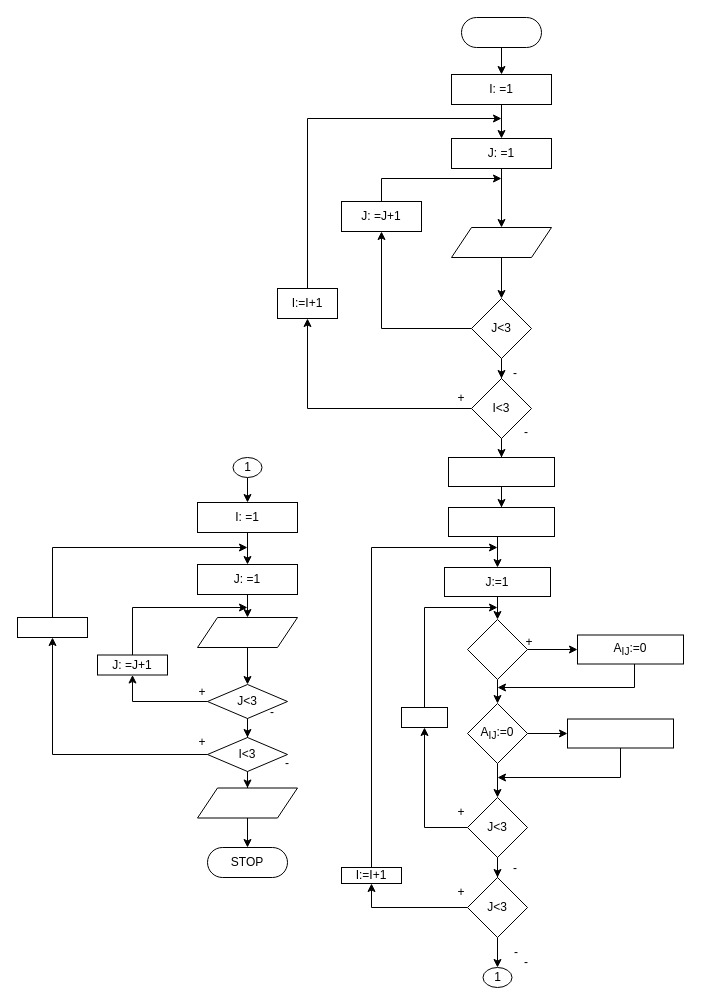
The diagram is 701 pixels wide and 1005 high, and some of its shapes have lost their labels. Here are the shapes that lost their labels. From the top down, the centre of each, then its label:
(501,32): Start
(501,242): Zadaj A IJ
(501,471): X:=0
(501,521): I:=1
(52,627): I: =I+1
(247,632): Vzpiš A IJ
(497,649): I=J
(424,717): J:= J+1
(620,733): x:=x+1
(247,802): Vzpiš X
